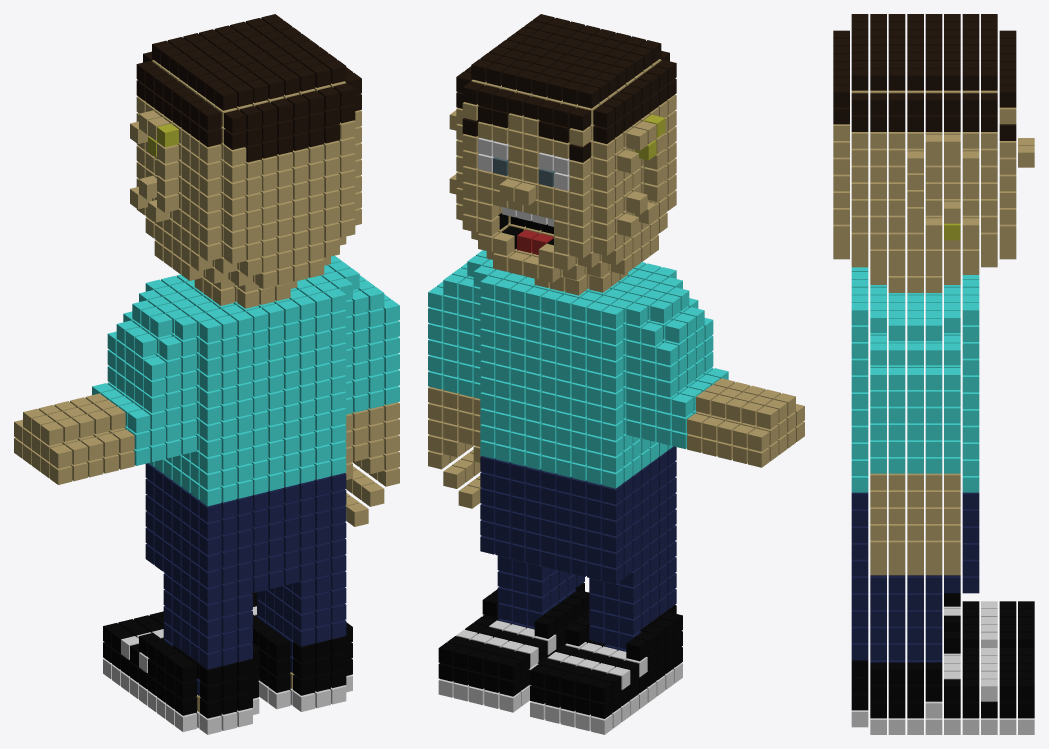
The picture shows the model from 3 angles, left to right: view 1: azimuth 30°, elevation 25°; view 2: azimuth 150°, elevation 25°; view 3: azimuth 270°, elevation 25°; orthographic projection. The views are drawn at different scales.
Visible parts, largest first — view 1: me; view 2: me; view 3: me.
Part boxes in pixels (box(x1,y1,x2,y2)): me: box(14, 14, 399, 734); me: box(428, 14, 804, 734); me: box(833, 14, 1034, 734).
Size of the model in its own units: 2.19 by 3.89 by 1.09.
